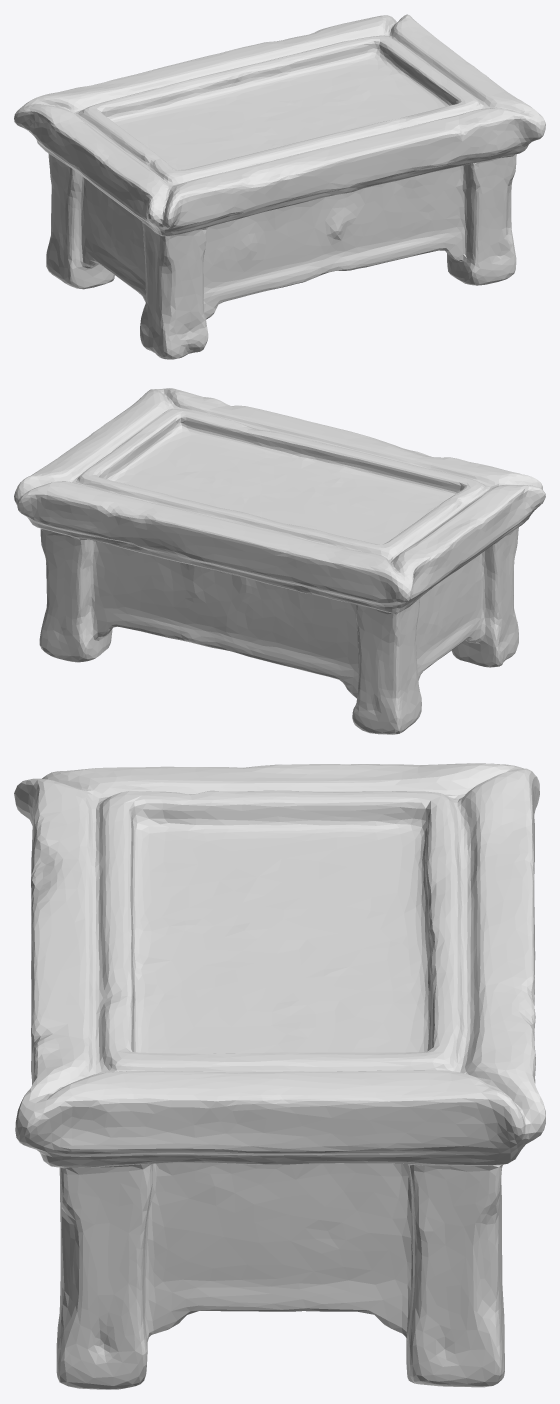
Rendered from altar01.glb.
3 renders of one model, top to bottom at view 1: azimuth 30°, elevation 25°; view 2: azimuth 150°, elevation 25°; view 3: azimuth 270°, elevation 25°, orthographic. The views are drawn at different scales.
Visible parts, largest first — view 1: Low; view 2: Low; view 3: Low.
Part boxes in pixels (<box>): Low: <box>14,14,545,359</box>; Low: <box>14,388,545,734</box>; Low: <box>14,763,545,1389</box>.
Bounding box in the file's own units: 1.98 × 0.846 × 1.28.
Materials: 1 (1 with a texture image).
